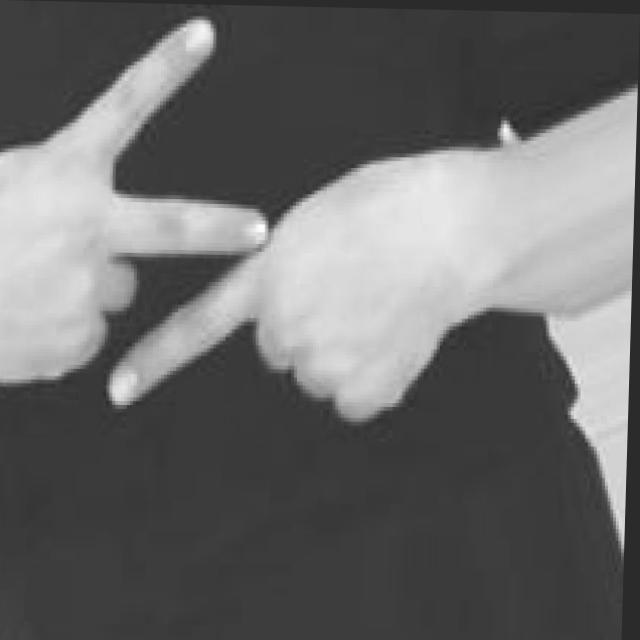Z: (0, 3, 486, 432)
